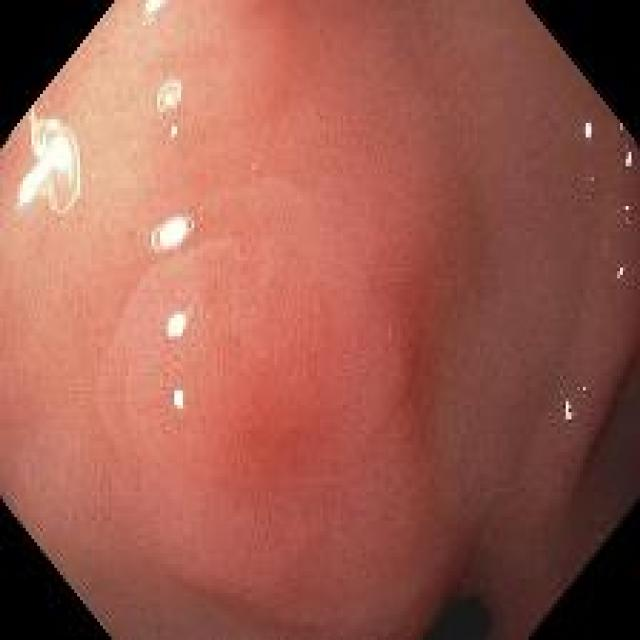Polyps: (99, 179, 414, 593)
